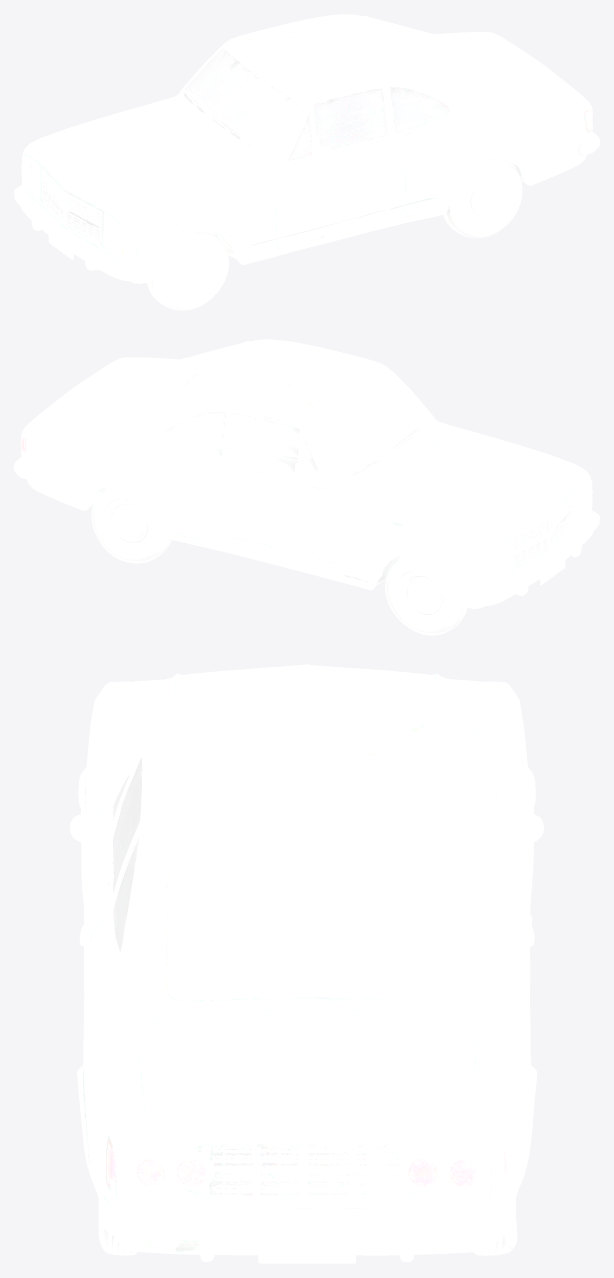
Rendered from opala-web.glb.
3 views of the same model, one above another, from view 1: azimuth 30°, elevation 25°; view 2: azimuth 150°, elevation 25°; view 3: azimuth 270°, elevation 25° (orthographic). The views are drawn at different scales.
Size of the model in its own units: 1.9 by 0.6741 by 0.7838.
Materials: 1 (1 with a texture image).
